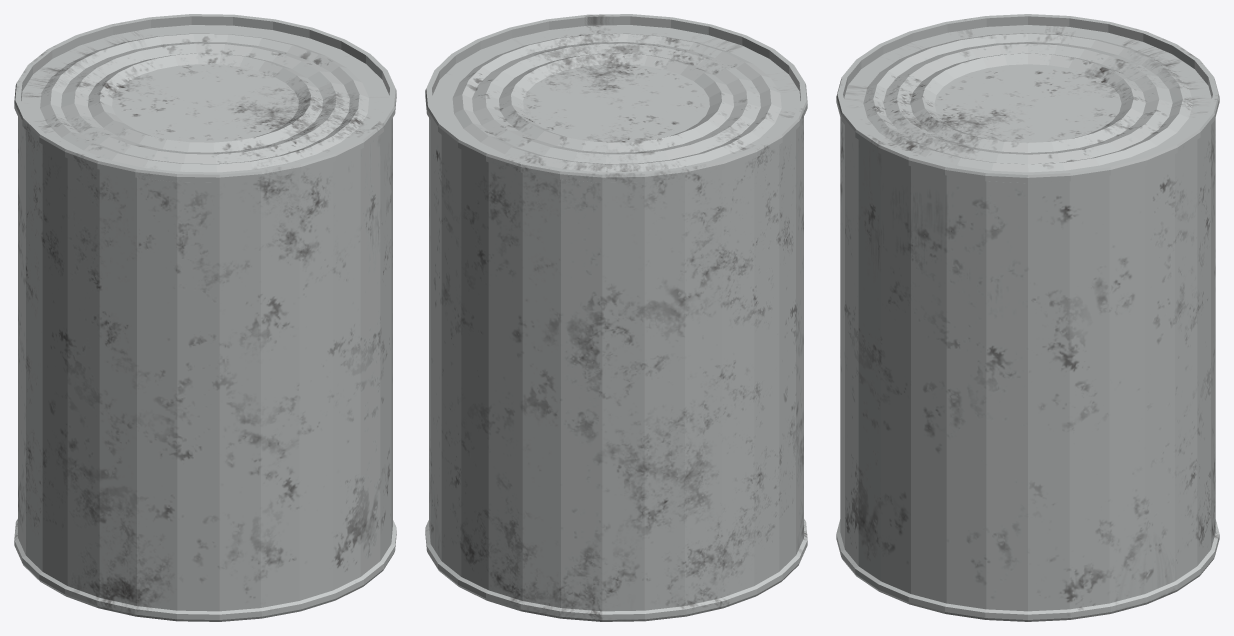
The picture shows the model from 3 angles, left to right: view 1: azimuth 30°, elevation 25°; view 2: azimuth 150°, elevation 25°; view 3: azimuth 270°, elevation 25°; orthographic projection.
Visible parts, largest first — view 1: Cam_l__0; view 2: Cam_l__0; view 3: Cam_l__0.
Part boxes in pixels (x1=…): Cam_l__0: x1=14, y1=14, x2=396, y2=621; Cam_l__0: x1=425, y1=14, x2=807, y2=621; Cam_l__0: x1=836, y1=14, x2=1219, y2=621.
Size of the model in its own units: 0.0933 by 0.12 by 0.0933.
Materials: 1 (1 with a texture image).
